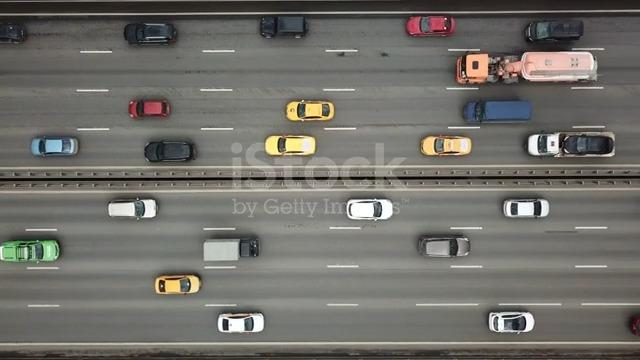Cars: (504, 51, 599, 83), (463, 99, 533, 124), (1, 239, 60, 263), (525, 19, 584, 43), (124, 22, 178, 46), (144, 141, 196, 163), (265, 135, 317, 157), (260, 16, 309, 39), (421, 135, 472, 157), (406, 15, 456, 37), (286, 100, 335, 122), (31, 136, 80, 158), (155, 274, 202, 295), (503, 198, 550, 219), (129, 99, 171, 119), (1, 22, 27, 44)
